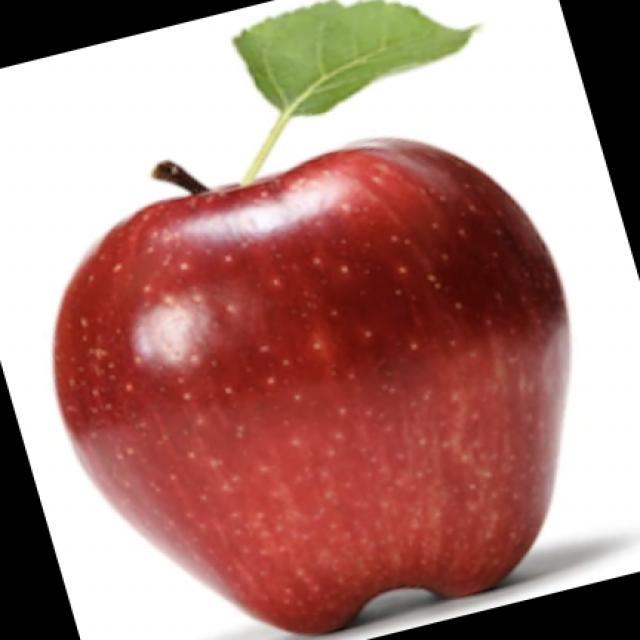Fresh Apple: (80, 140, 575, 597)
